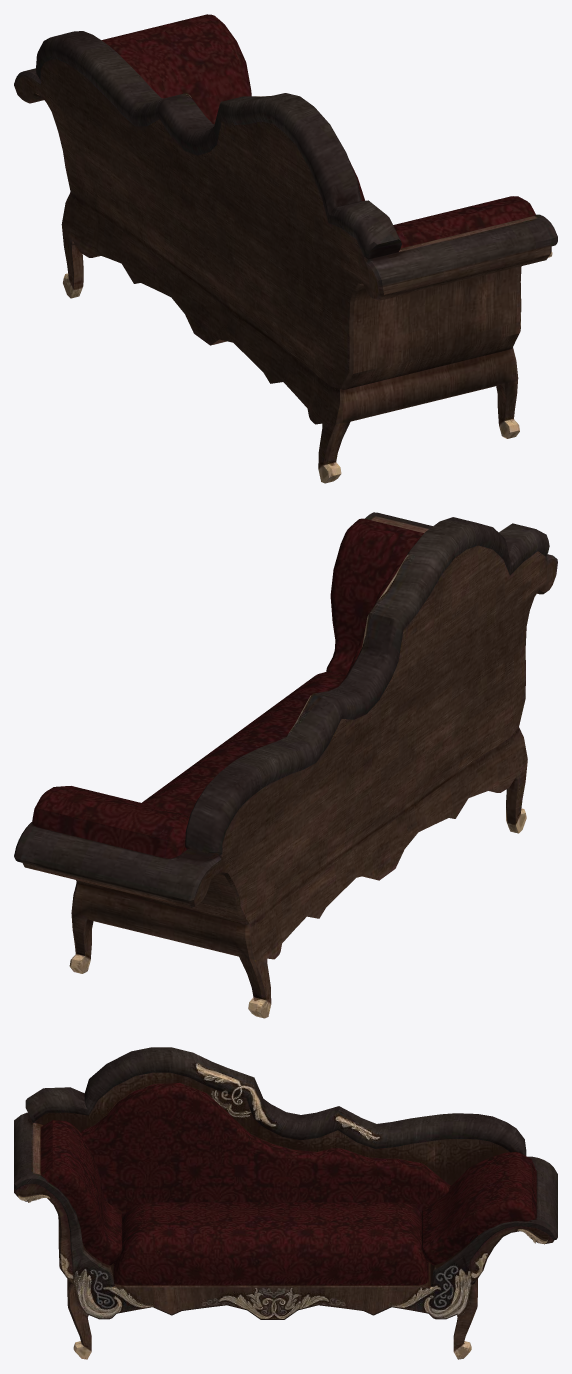
The model's file is sofa.glb.
3 renders of one model, top to bottom at view 1: azimuth 30°, elevation 25°; view 2: azimuth 150°, elevation 25°; view 3: azimuth 270°, elevation 25°, orthographic. The views are drawn at different scales.
Parts seen in each view (by area): view 1: g FinishedLow; view 2: g FinishedLow; view 3: g FinishedLow.
Part boxes in pixels (bbox=[...]): g FinishedLow: bbox=[14, 14, 557, 483]; g FinishedLow: bbox=[14, 512, 557, 1018]; g FinishedLow: bbox=[14, 1047, 557, 1359].
Size of the model in its own units: 0.2848 by 0.4777 by 0.95.
Materials: 1 (1 with a texture image).
